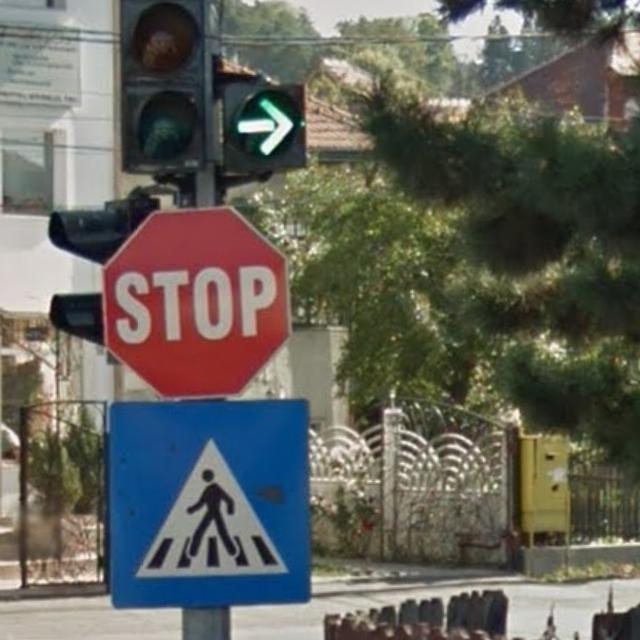info_crosswalk: (104, 400, 313, 606)
prio_stop: (102, 208, 291, 393)
